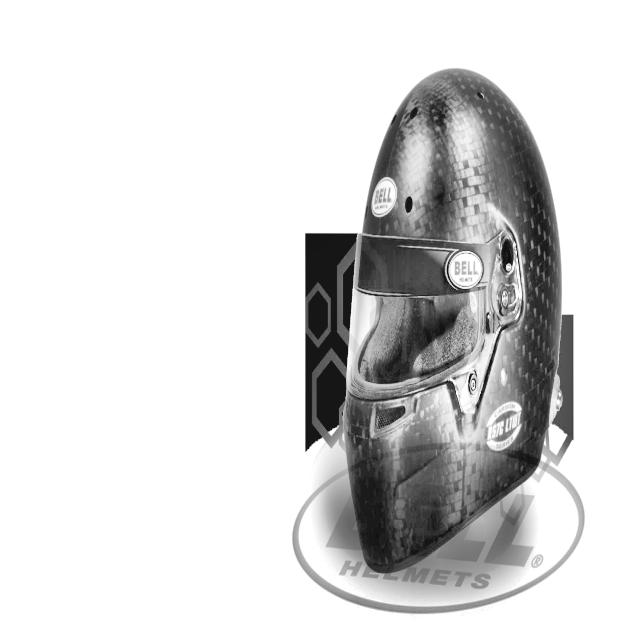Helmet: (335, 51, 576, 576)
